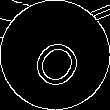O_NE: (23, 22, 87, 88)
